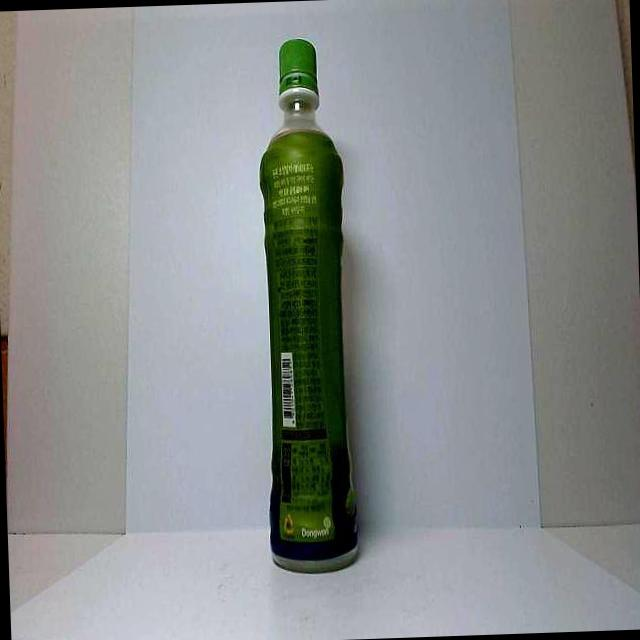Non-biodegradable: (254, 36, 362, 576)
